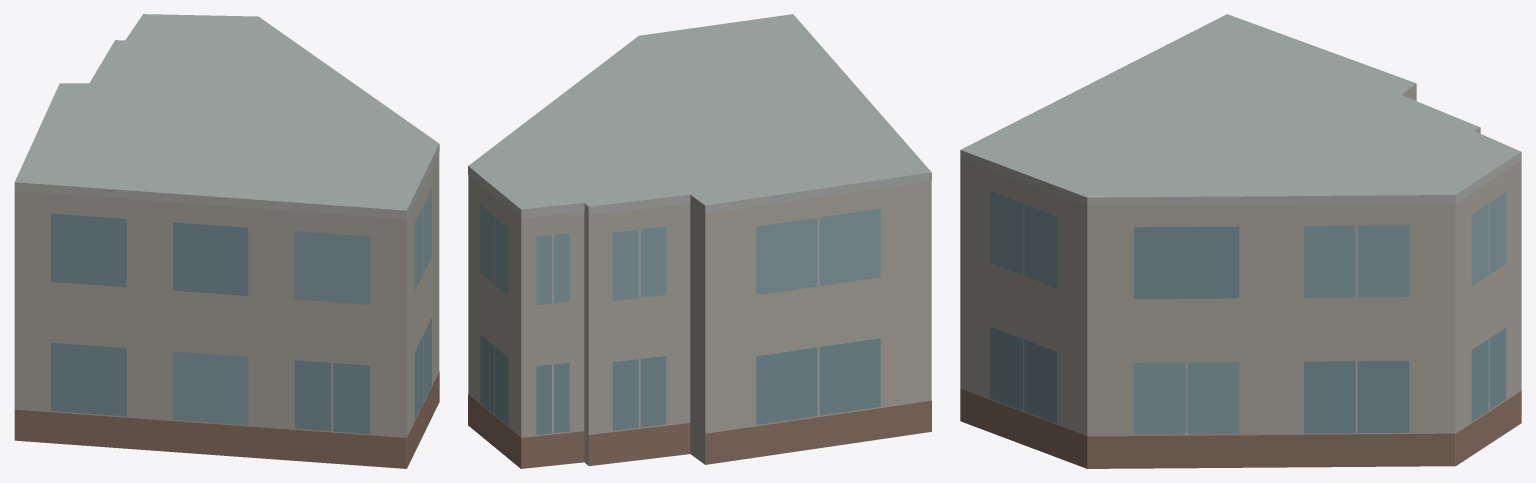
File: survey-upis-32500366.glb
3 renders of one model, left to right at view 1: azimuth 30°, elevation 25°; view 2: azimuth 150°, elevation 25°; view 3: azimuth 270°, elevation 25°, orthographic. The views are drawn at different scales.
Parts seen in each view (by area): view 1: survey-upis-32500366.tmp; view 2: survey-upis-32500366.tmp; view 3: survey-upis-32500366.tmp.
Boxes of the visible parts, x1,y1,x2,y2 form: survey-upis-32500366.tmp: [14, 14, 439, 468]; survey-upis-32500366.tmp: [468, 14, 931, 468]; survey-upis-32500366.tmp: [960, 14, 1521, 468].
Size of the model in its own units: 10.61 by 7.3 by 13.7.
